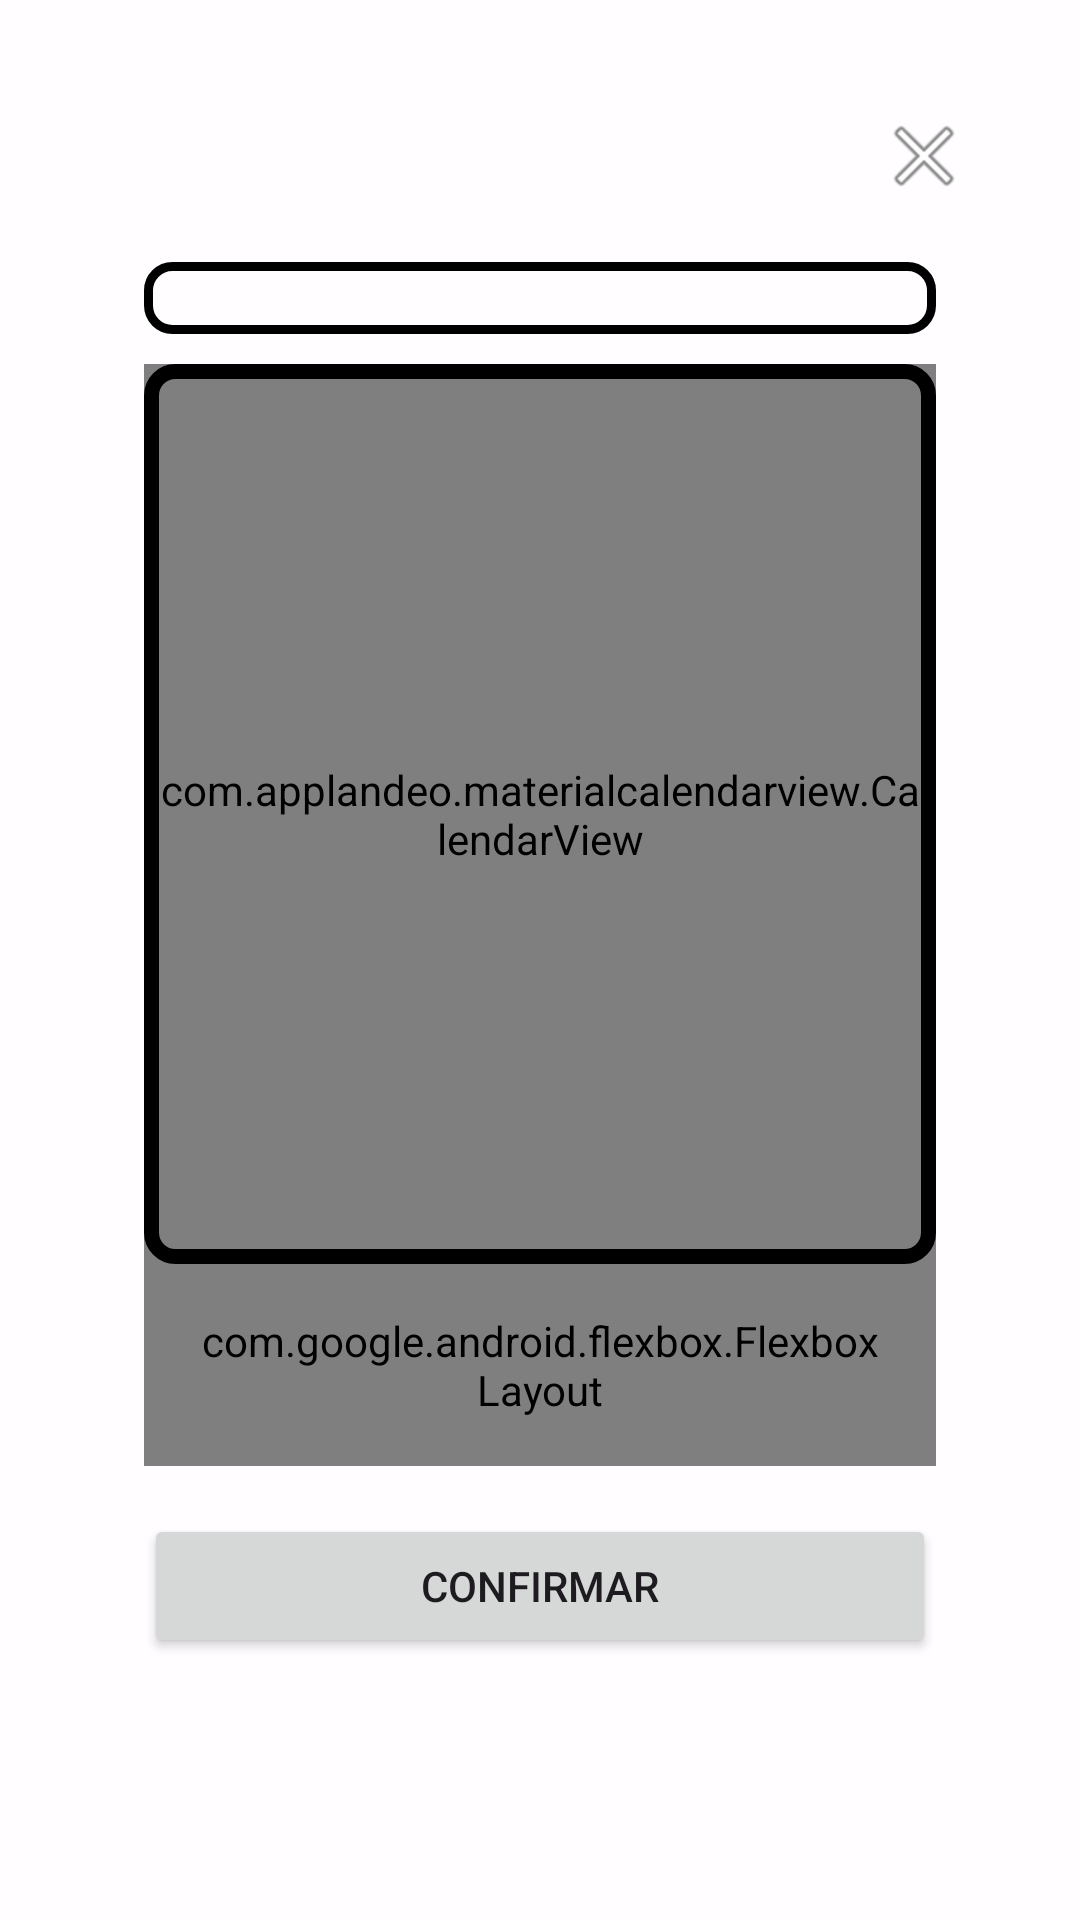

Where to tap for icons on this 1080*1920 app screen, as (x,y):
Fechar: (924,156)
